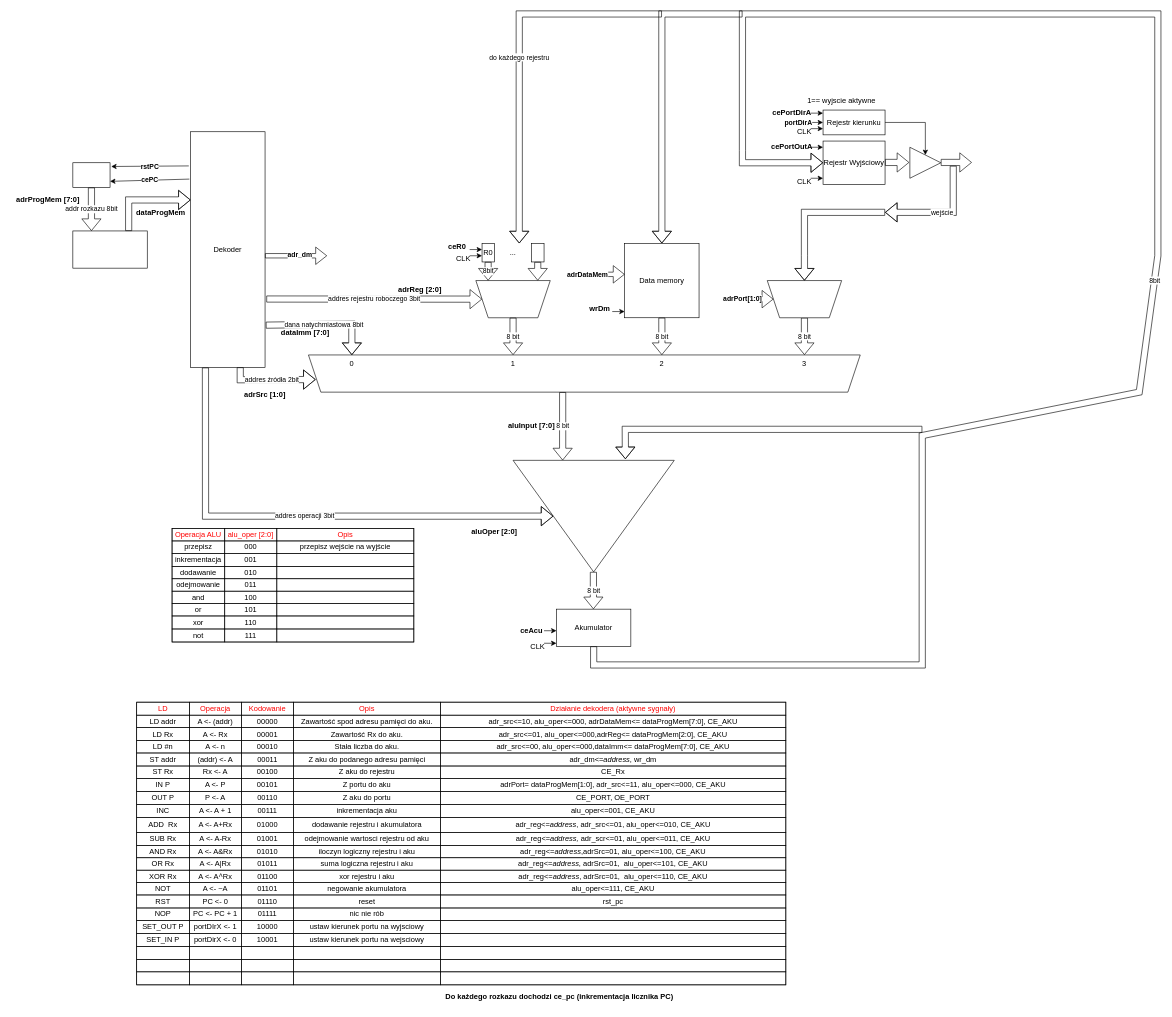
Some shapes in this 1172 by 1017 pixel diagram are drawn without their labels. Each missing label, with the centre of its shape:
"Licznik PC" belongs at point 91,175.
"Program mem." belongs at point 109,249.
"R7" belongs at point 537,252.
